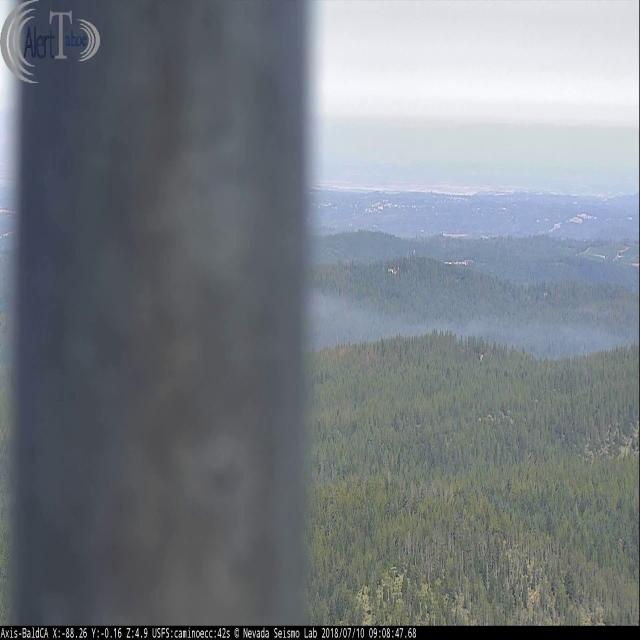smoke: (306, 286, 634, 352)
